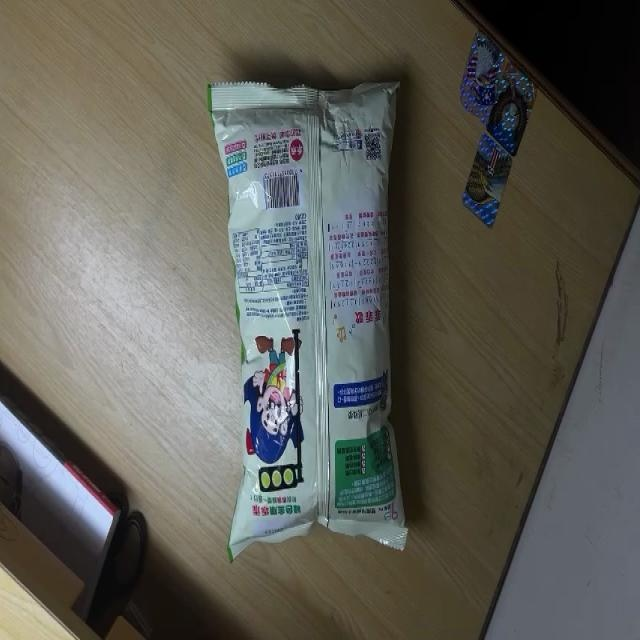Good-Luck: (207, 76, 410, 563)
